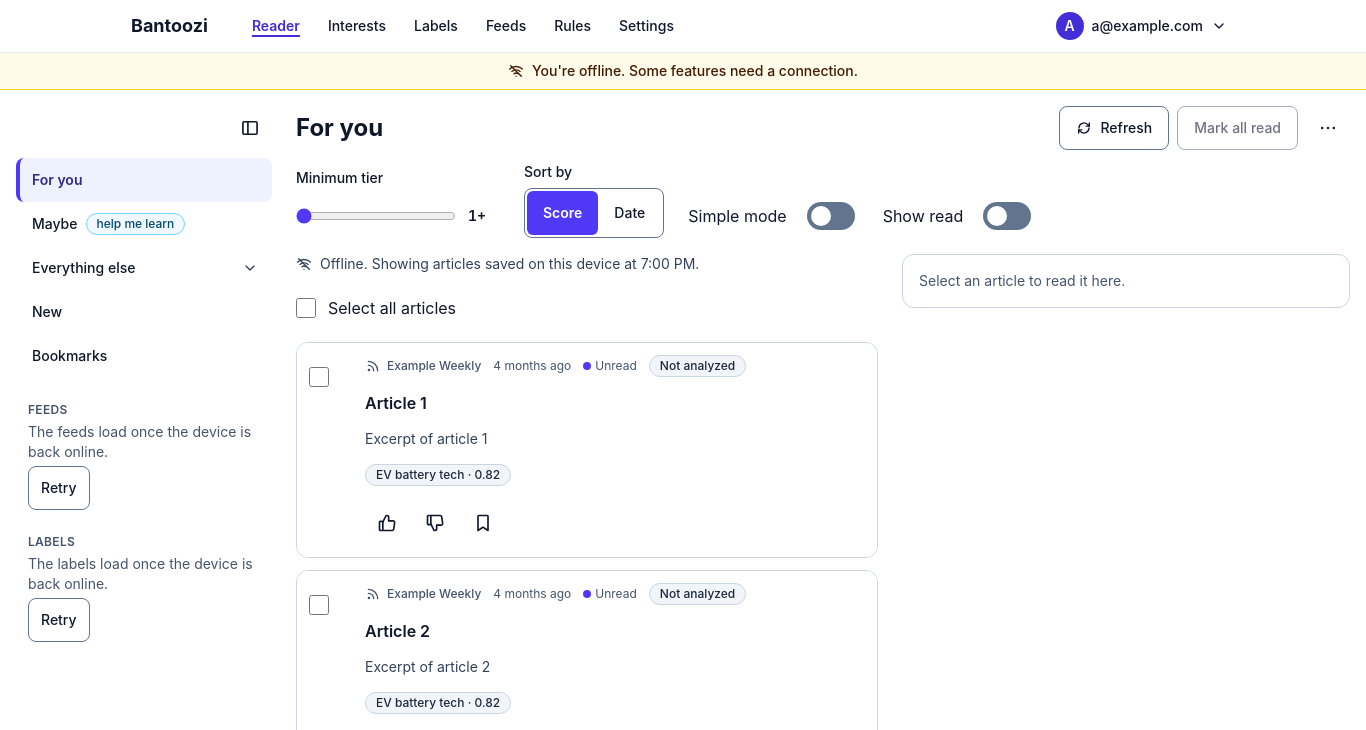
Test: showing the saved list › keeps the saved rows out of the query cache, the list and the opened article alike
Check: the element "Article 1" is shown, box [296,342,878,558]
Click the button "Article 1": [396, 403] box [365,381,865,425]
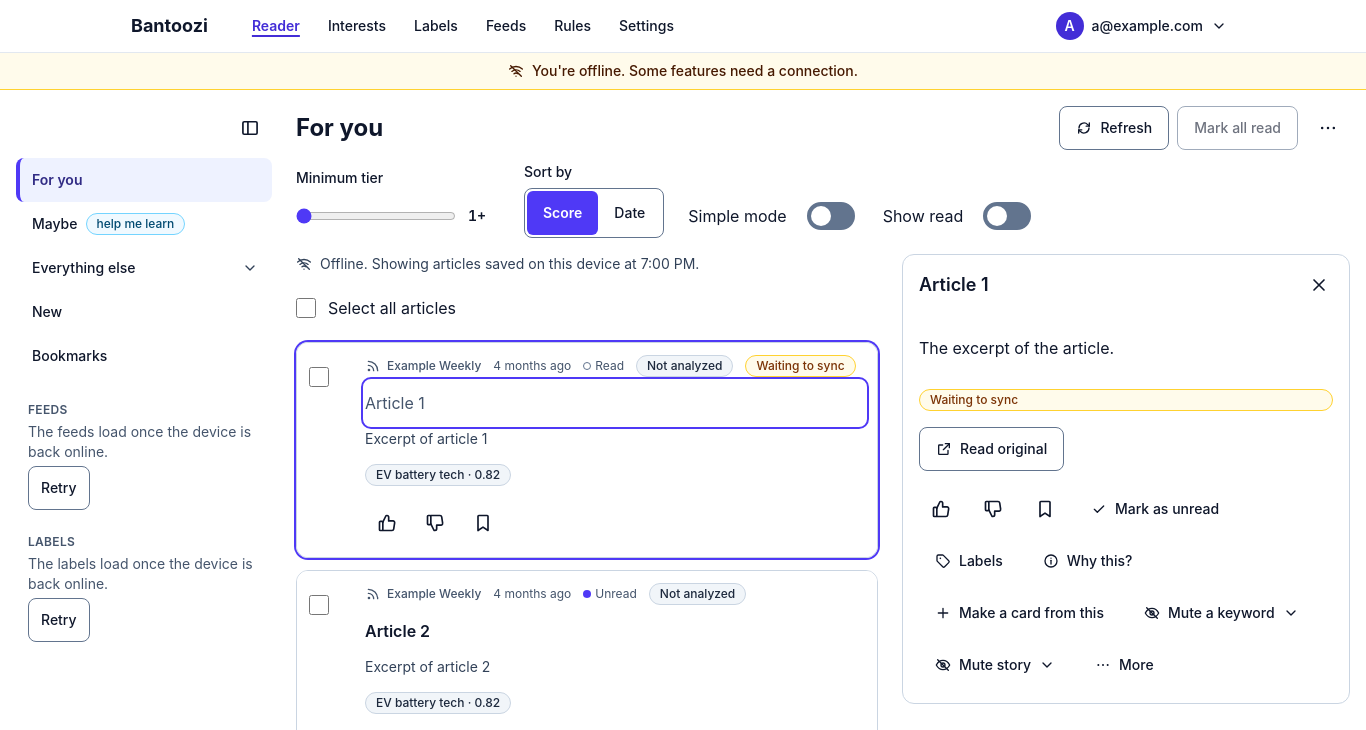
Check: the text "Offline. Showing articles saved on this device at 7:00 PM." is shown, box [296,255,699,272]
Check: the text "The excerpt of the article." is shown, box [919,338,1114,358]
